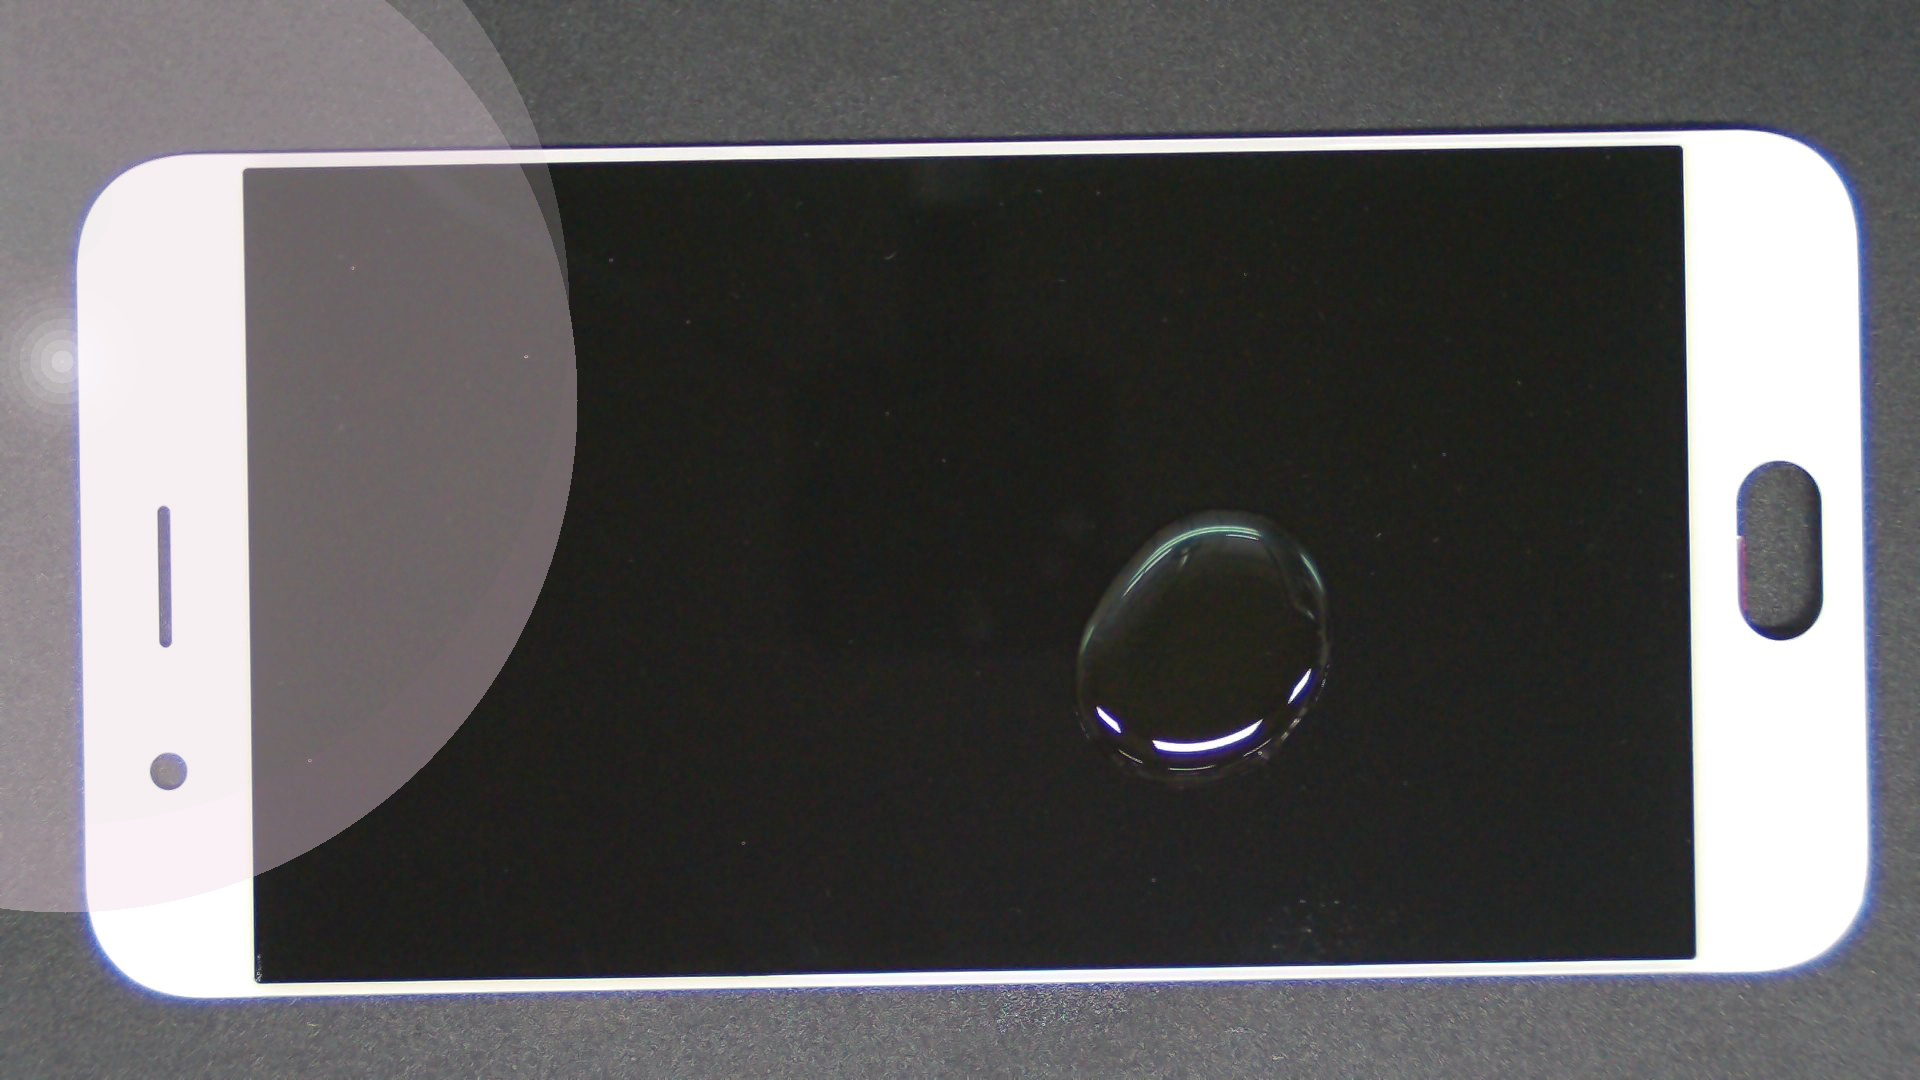oil: (613, 253, 1837, 762)
